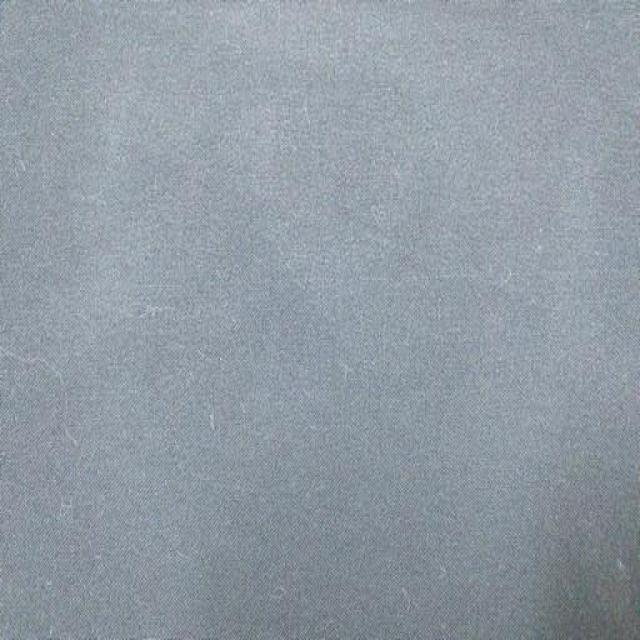defect: (7, 340, 93, 468)
